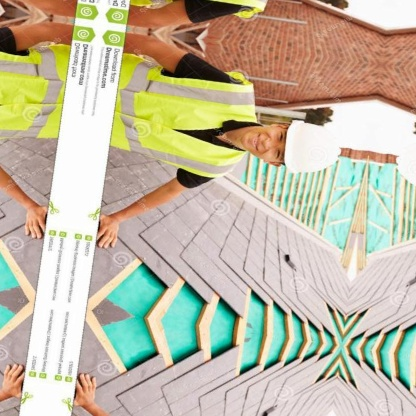vest: (107, 52, 265, 185)
white: (279, 117, 348, 183)
